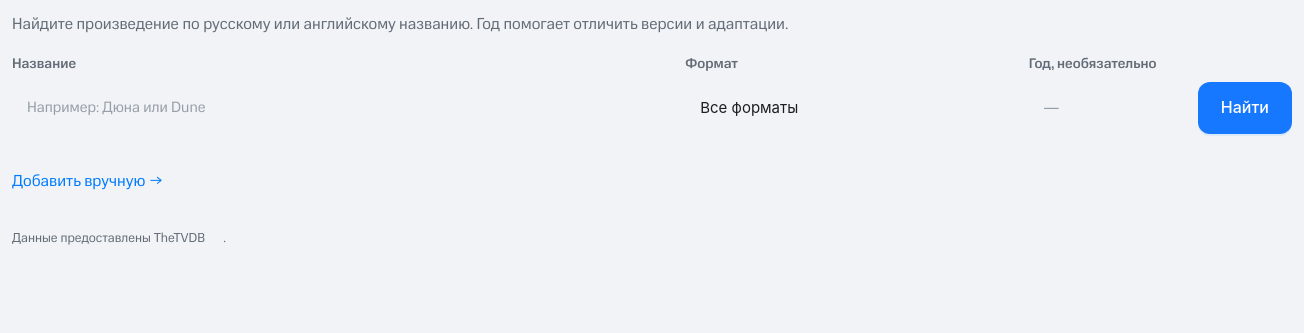
Test case: Добавление из TheTVDB через интерфейс › не отправляет поиск с неверным годом вместо прежнего допустимого значения
The width and height of the screenshot is (1304, 333).
Type "Сериал" into the field named "Название для поиска" at (342, 108), box [12,82,671,134]
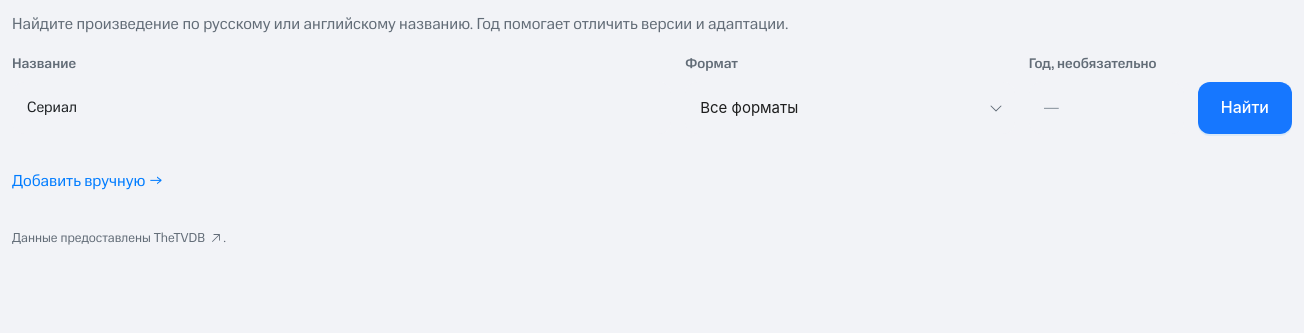
Type "1995" into the field named "Год, необязательно" at (1106, 108), box [1034,88,1179,128]
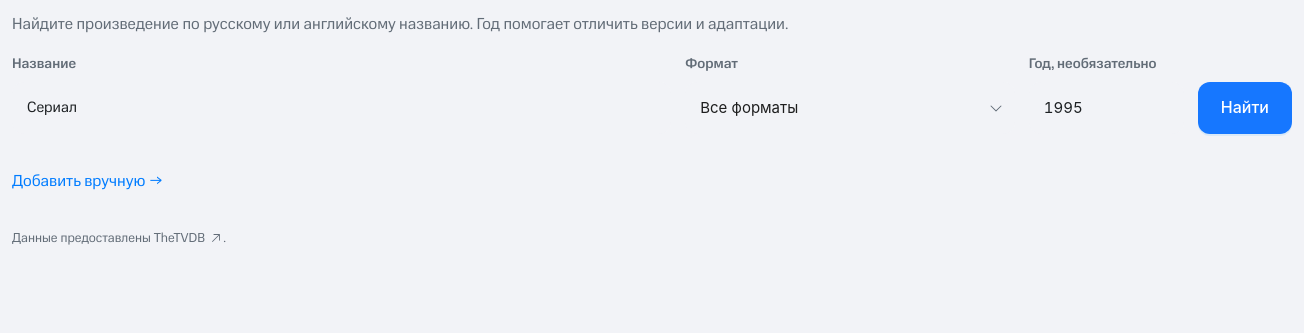
Replace the text in the field named "Год, необязательно" with "003" at (1106, 108), box [1034,88,1179,128]
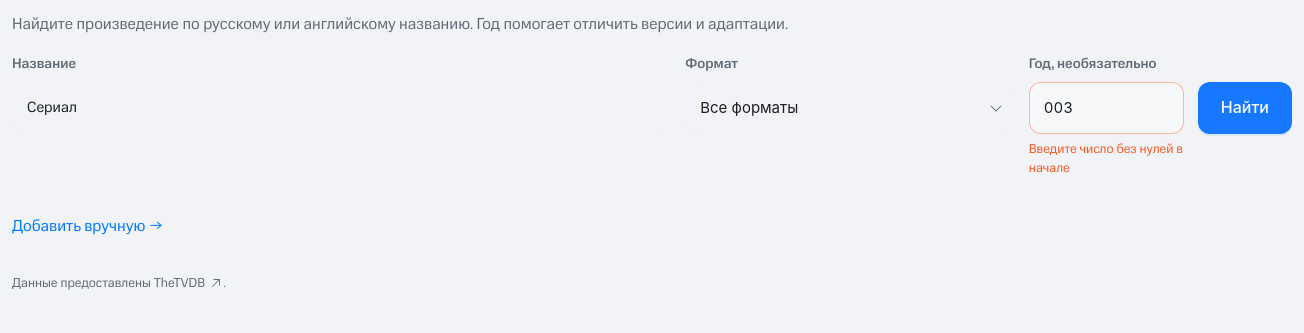
Submit the form named "Поиск TheTVDB", box [12,54,1292,179]
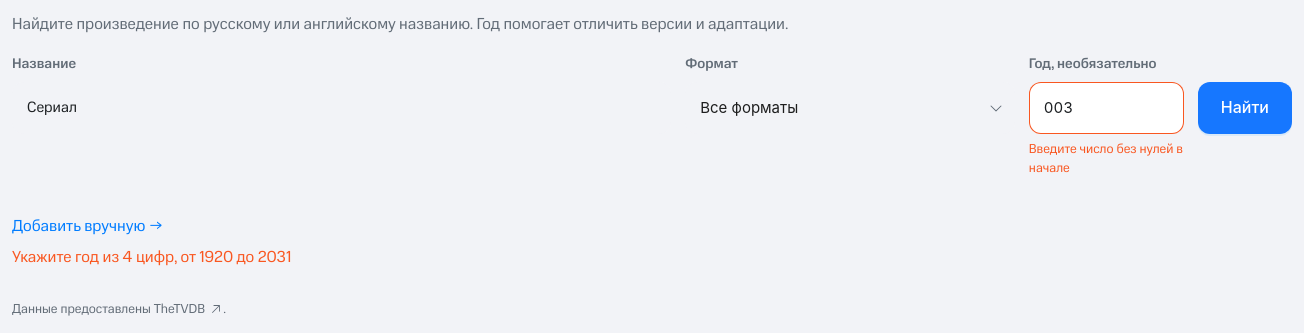
expect the text "Укажите год из 4 цифр" is shown: met, box [12,246,291,268]
